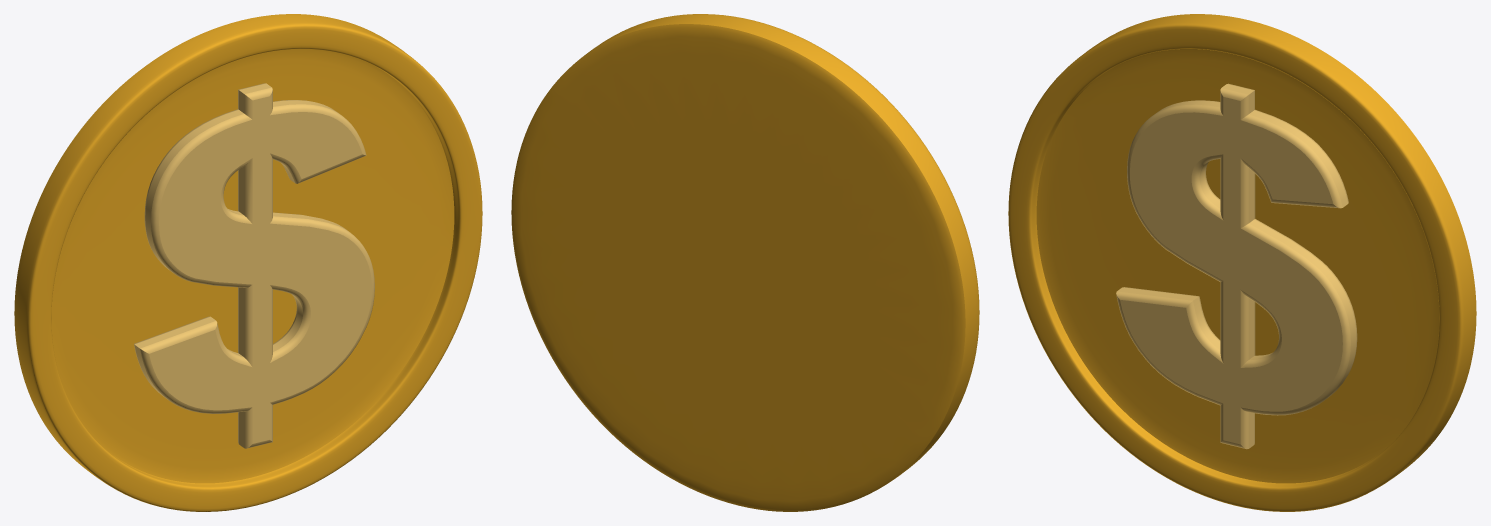
Rendered from goldModel.fbx.
The picture shows the model from 3 angles, left to right: view 1: azimuth 30°, elevation 25°; view 2: azimuth 150°, elevation 25°; view 3: azimuth 330°, elevation 25°; orthographic projection.
Parts seen in each view (by area): view 1: 圆盘; view 2: 圆盘; view 3: 圆盘.
Part boxes in pixels (x1,y1,x2,y2): 圆盘: (14,14,482,511); 圆盘: (511,14,979,511); 圆盘: (1008,14,1476,511).
Bounding box in the file's own units: 92.29 × 92.29 × 7.05.
